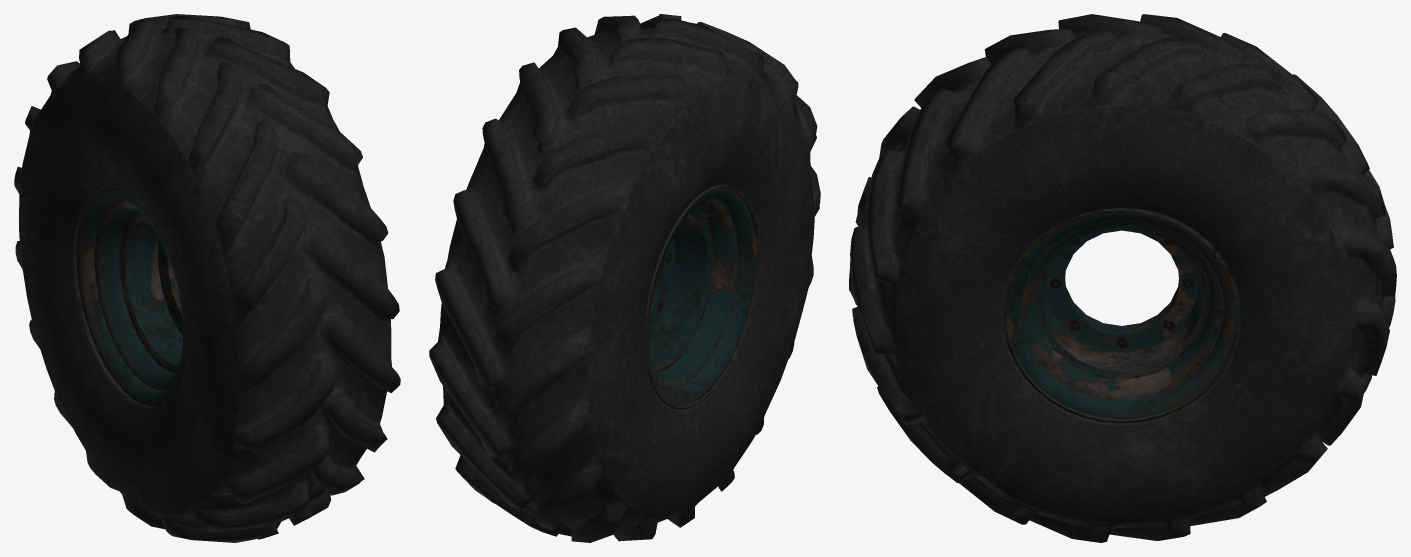
Rendered from htz150_wheel.obj.
3 renders of one model, left to right at view 1: azimuth 30°, elevation 25°; view 2: azimuth 150°, elevation 25°; view 3: azimuth 270°, elevation 25°, orthographic. The views are drawn at different scales.
Visible parts, largest first — view 1: 1664286; view 2: 1664286; view 3: 1664286.
Boxes of the visible parts, left/top/right/bottom form: 1664286: left=14, top=14, right=400, bottom=542; 1664286: left=429, top=14, right=820, bottom=542; 1664286: left=849, top=14, right=1396, bottom=542.
Size of the model in its own units: 0.7657 by 2 by 1.99.
1 material, 1 textured.
